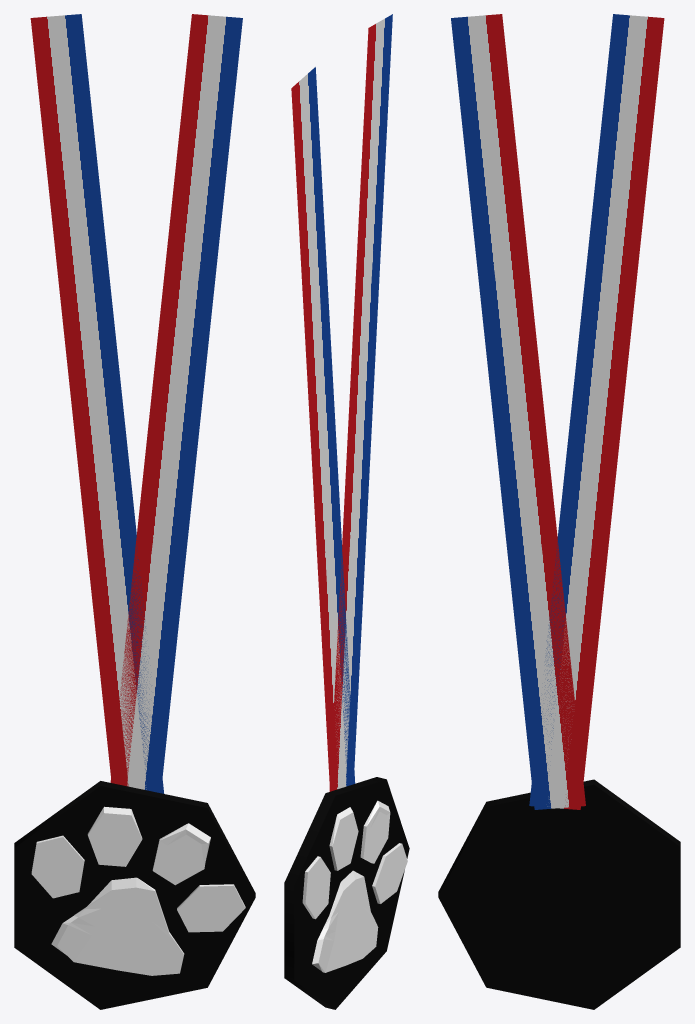
File: medalBlack.FBX
3 views of the same model, side by side, from view 1: azimuth 90°, elevation 25°; view 2: azimuth 150°, elevation 25°; view 3: azimuth 270°, elevation 25° (orthographic). The views are drawn at different scales.
Visible parts, largest first — view 1: Box236; view 2: Box236; view 3: Box236.
Boxes of the visible parts, x1,y1,x2,y2 form: Box236: (14, 14, 255, 1009); Box236: (284, 14, 409, 1009); Box236: (438, 14, 680, 1009).
Size of the model in its own units: 0.5628 by 35.33 by 7.79.
